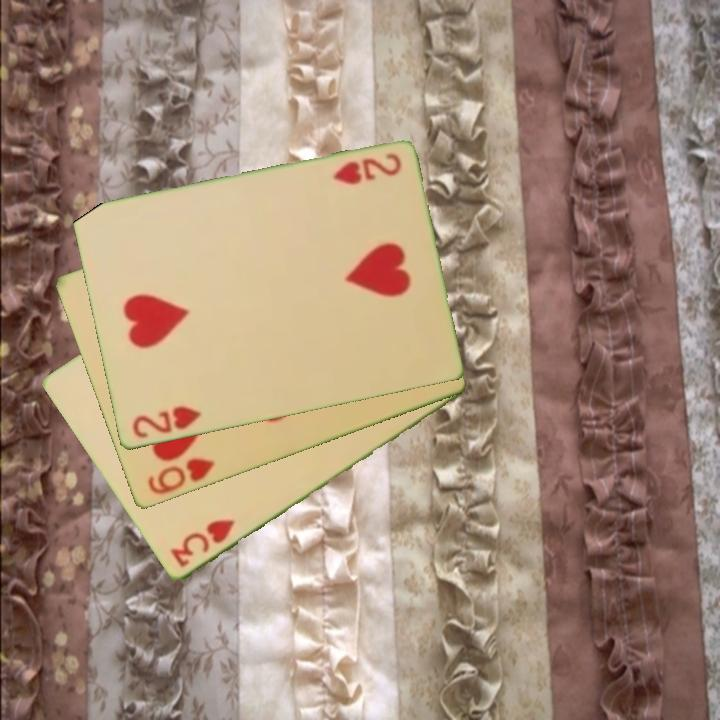2h: (128, 403, 204, 442), (329, 150, 404, 188)
3h: (166, 516, 238, 572)
6h: (143, 455, 217, 498)
